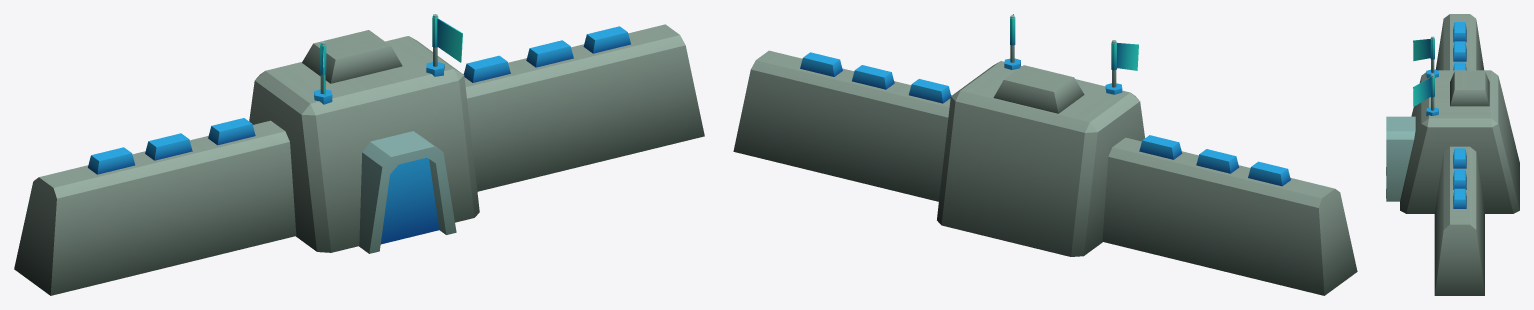
File: wall.fbx
The picture shows the model from 3 angles, left to right: view 1: azimuth 30°, elevation 25°; view 2: azimuth 150°, elevation 25°; view 3: azimuth 270°, elevation 25°; orthographic projection. The views are drawn at different scales.
Visible parts, largest first — view 1: wall; view 2: wall; view 3: wall.
Boxes of the visible parts, x1=… form: wall: x1=14, y1=14, x2=704, y2=295; wall: x1=733, y1=14, x2=1357, y2=295; wall: x1=1386, y1=14, x2=1519, y2=295.
Bounding box in the file's own units: 2611 × 724 × 671.
